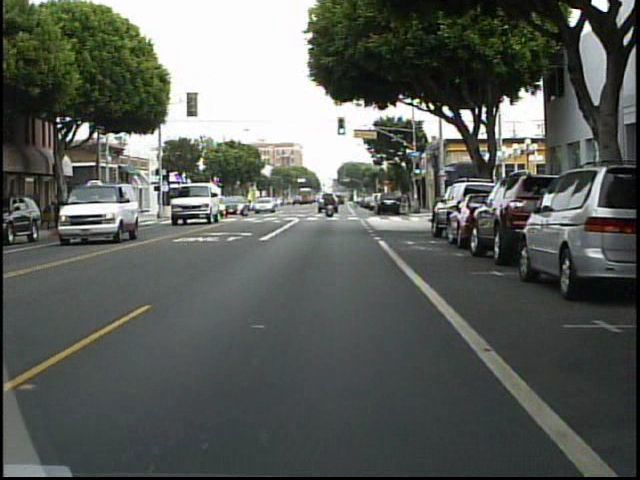person: (322, 191, 339, 220)
